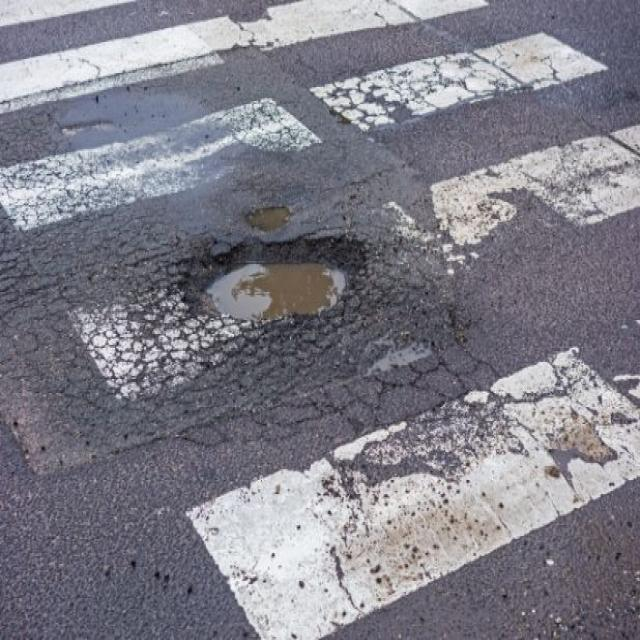pothole: (178, 220, 372, 328)
